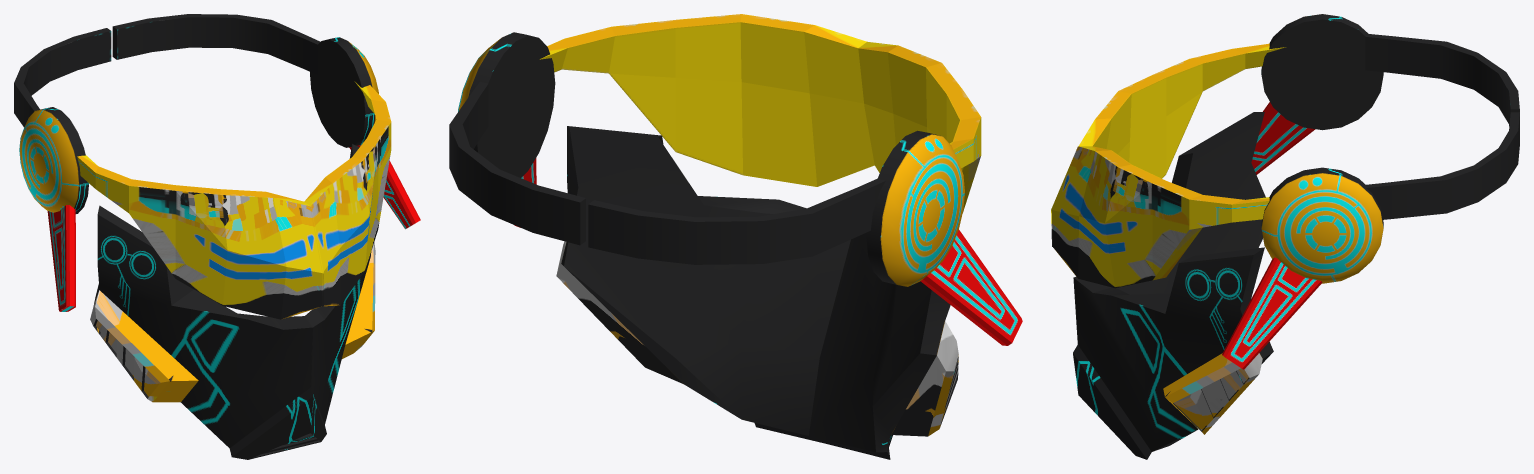
File: Headg_α.fbx
3 renders of one model, left to right at view 1: azimuth 30°, elevation 25°; view 2: azimuth 150°, elevation 25°; view 3: azimuth 270°, elevation 25°, orthographic. The views are drawn at different scales.
Parts seen in each view (by area): view 1: polySurface10, polySurface9, polySurface2, polySurface5, polySurface1, polySurface7, polySurface4, polySurface6, polySurface8, polySurface3; view 2: polySurface1, polySurface2, polySurface10, polySurface6, polySurface7, polySurface9, polySurface4, polySurface5, polySurface8; view 3: polySurface1, polySurface2, polySurface4, polySurface7, polySurface9, polySurface10, polySurface6, polySurface5, polySurface3, polySurface8.
Part boxes in pixels (x1=…): polySurface10: x1=90, y1=205, x2=313, y2=459; polySurface9: x1=77, y1=155, x2=323, y2=319; polySurface2: x1=304, y1=81, x2=391, y2=306; polySurface5: x1=112, y1=14, x2=320, y2=74; polySurface1: x1=285, y1=144, x2=375, y2=450; polySurface7: x1=19, y1=107, x2=88, y2=213; polySurface4: x1=310, y1=37, x2=378, y2=147; polySurface6: x1=14, y1=28, x2=111, y2=127; polySurface8: x1=47, y1=205, x2=75, y2=311; polySurface3: x1=349, y1=144, x2=420, y2=229; polySurface1: x1=556, y1=126, x2=850, y2=442; polySurface2: x1=539, y1=14, x2=874, y2=186; polySurface10: x1=809, y1=233, x2=958, y2=459; polySurface6: x1=588, y1=178, x2=885, y2=264; polySurface7: x1=866, y1=130, x2=964, y2=286; polySurface9: x1=858, y1=41, x2=981, y2=211; polySurface4: x1=458, y1=32, x2=555, y2=177; polySurface5: x1=449, y1=81, x2=585, y2=245; polySurface8: x1=920, y1=229, x2=1022, y2=345; polySurface1: x1=1073, y1=247, x2=1273, y2=459; polySurface2: x1=1051, y1=146, x2=1269, y2=288; polySurface4: x1=1261, y1=167, x2=1383, y2=283; polySurface7: x1=1261, y1=14, x2=1383, y2=130; polySurface9: x1=1051, y1=43, x2=1286, y2=246; polySurface10: x1=1073, y1=112, x2=1265, y2=395; polySurface6: x1=1365, y1=33, x2=1519, y2=125; polySurface5: x1=1366, y1=112, x2=1519, y2=219; polySurface3: x1=1222, y1=257, x2=1322, y2=369; polySurface8: x1=1251, y1=102, x2=1315, y2=174.
Bounding box in the file's own units: 2.51 × 2.11 × 2.62.
1 material, 1 textured.
